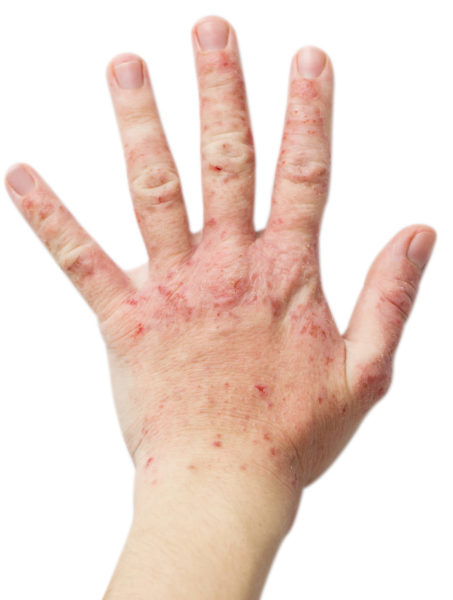Diseased: (40, 85, 405, 454)
